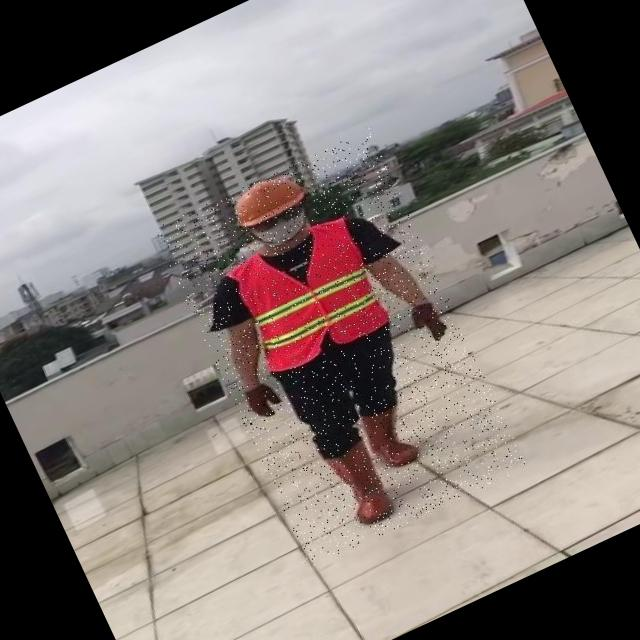hard_hat: (220, 162, 314, 235)
safety_vest: (219, 214, 392, 381)
vehicle: (153, 128, 528, 568)
work_boots: (324, 439, 402, 534), (354, 396, 424, 476)
